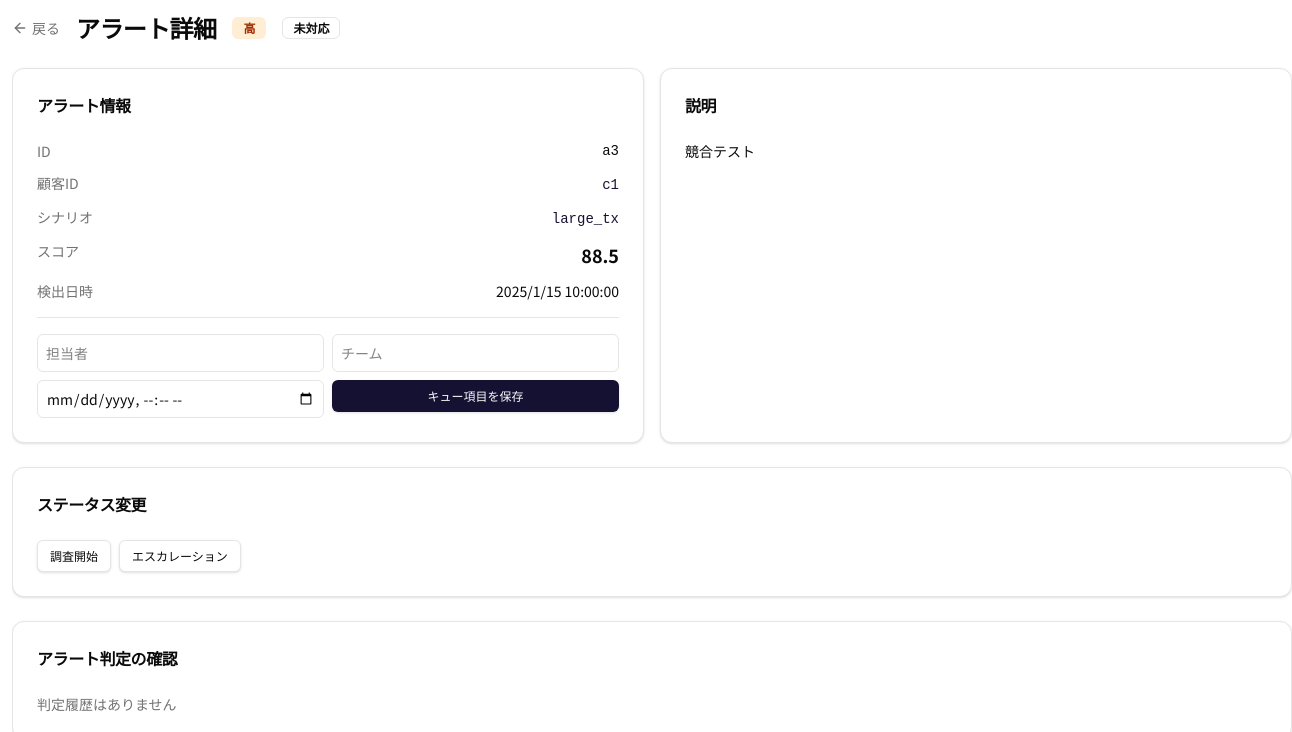
Test case: shows a reload path when a status update conflicts
This screenshot has width=1292, height=732.
Expected: the text "競合テスト" is shown, [685,141,755,161]
Click the button "調査開始" at (74, 556), box [37,540,111,572]
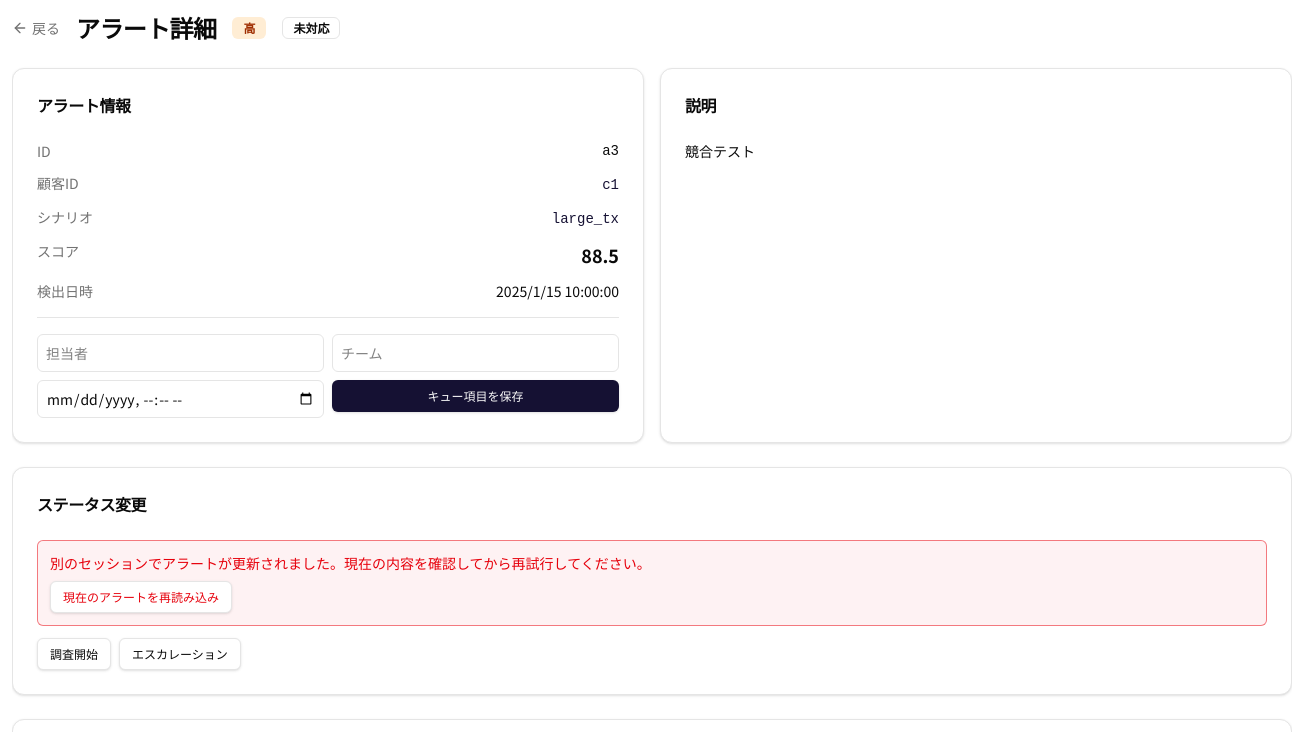
Expected: the message shows "別のセッションでアラートが更新されました", [50,553,651,573]
Expected: the button "現在のアラートを再読み込み" is shown, [50,581,232,613]
